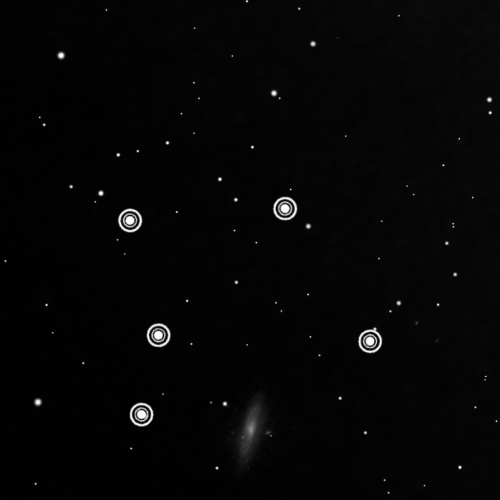libra: (112, 194, 388, 432)
